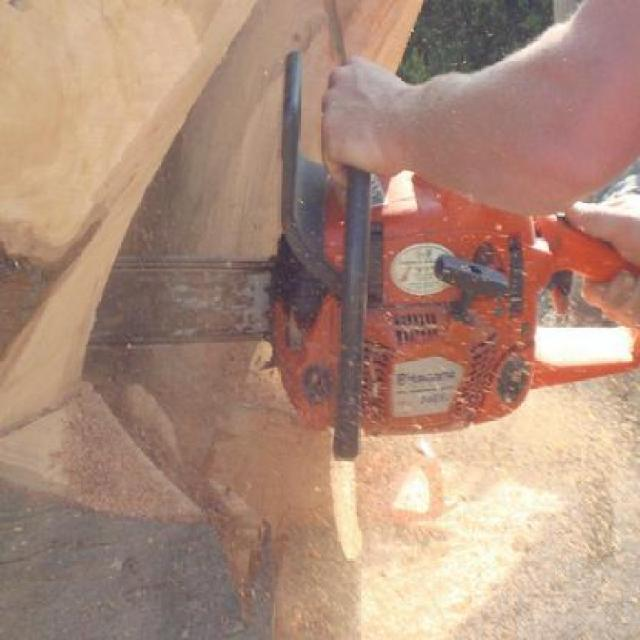Chainsaw: (0, 50, 638, 469)
